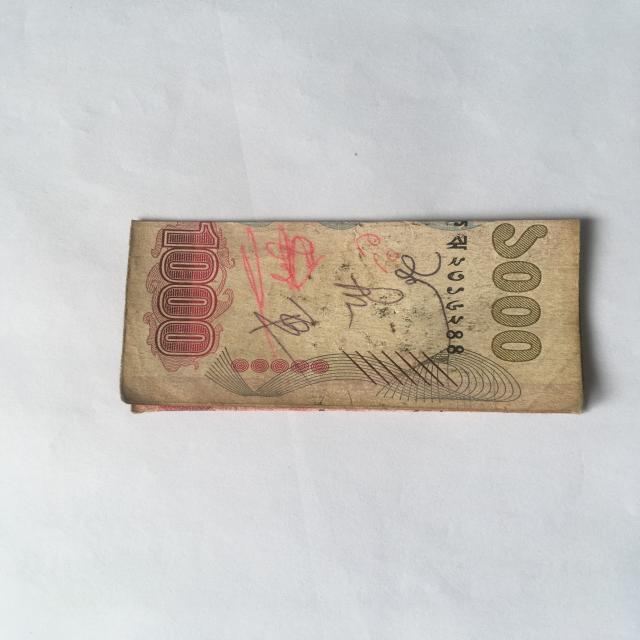Taka: (122, 211, 594, 421)
